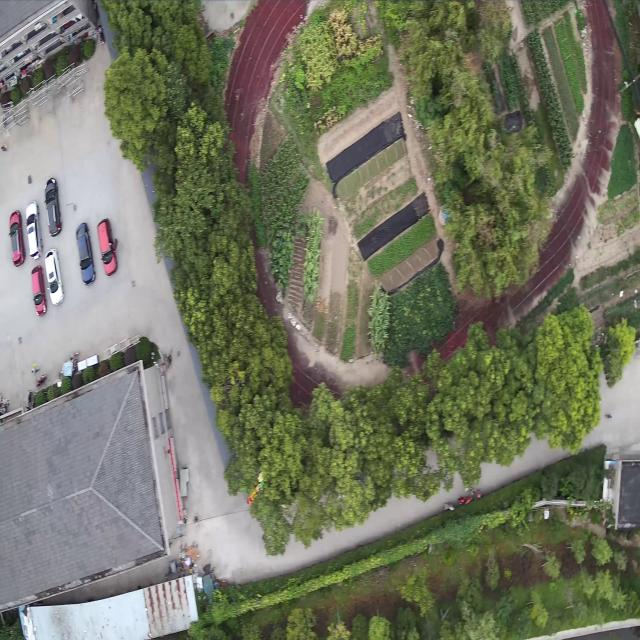UAV: (43, 482, 60, 507)
